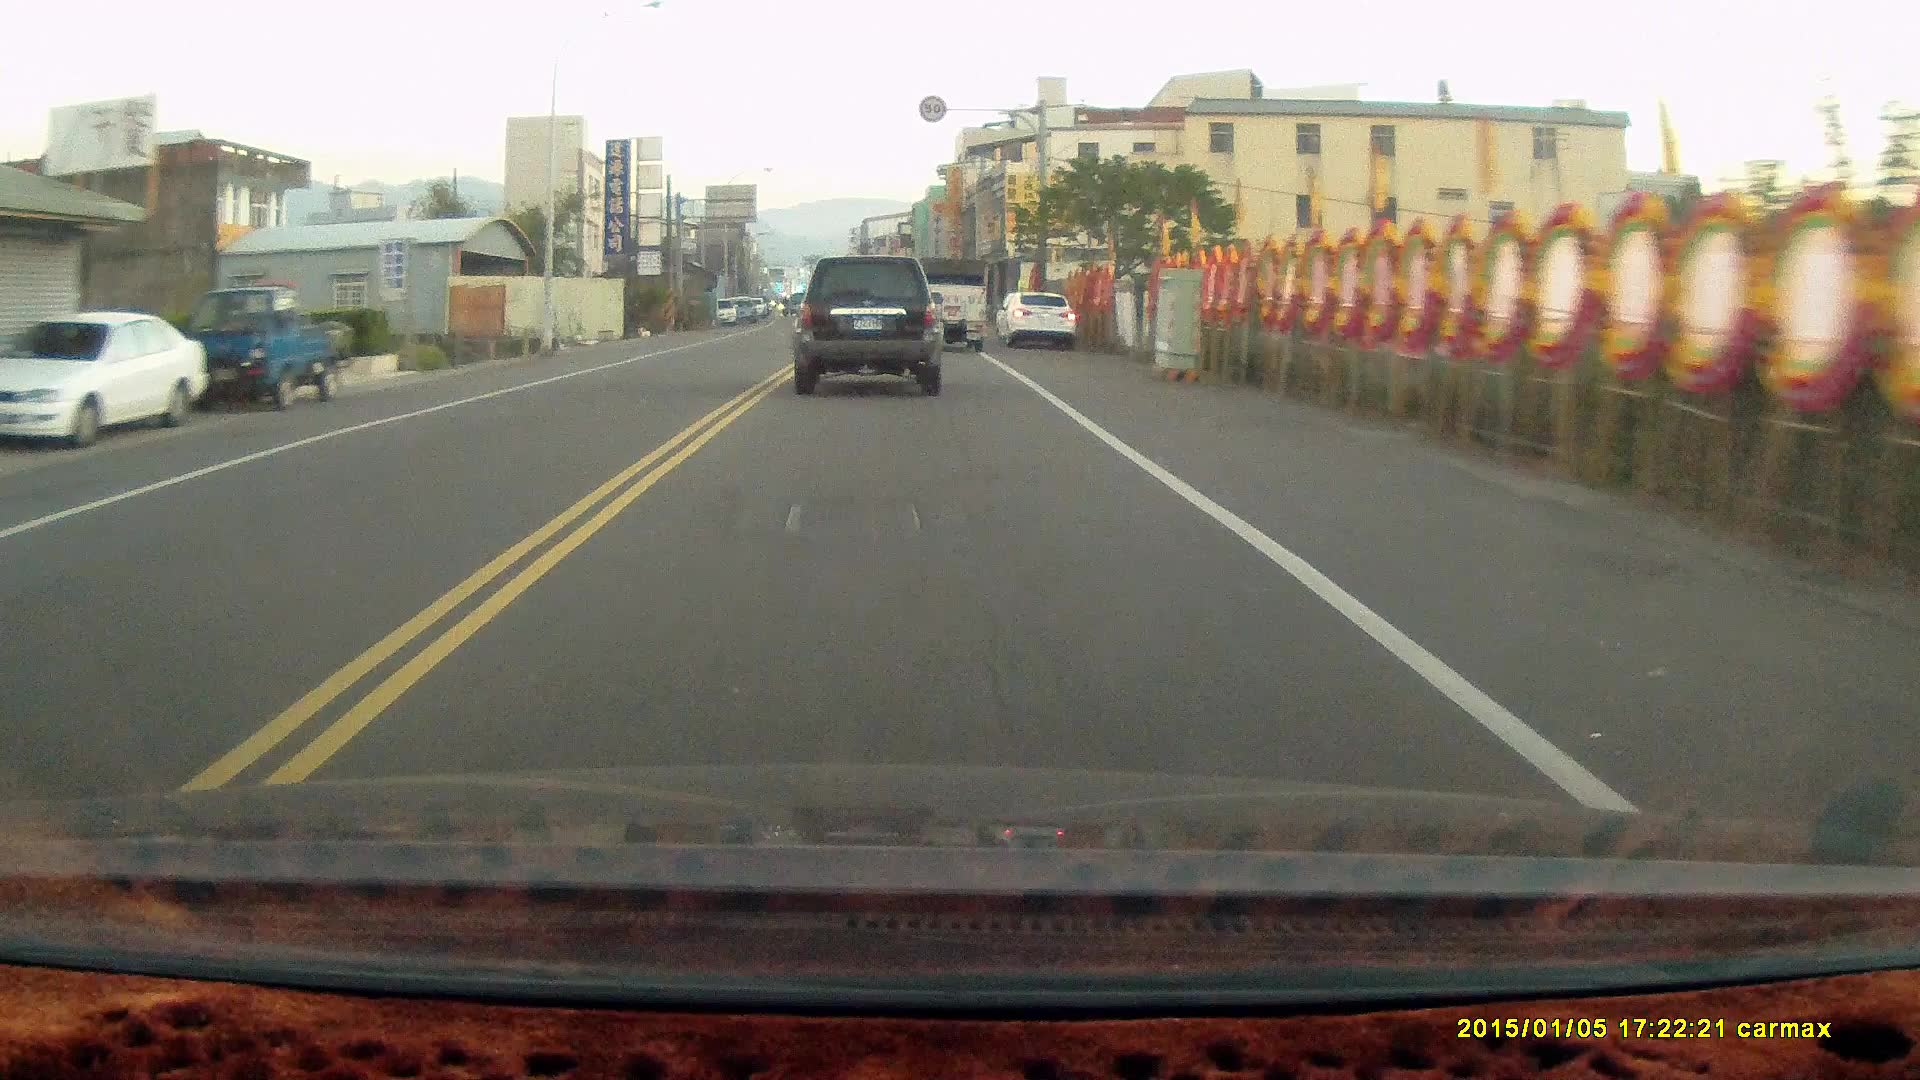vehicle: (1, 309, 211, 446), (171, 284, 353, 413), (794, 256, 945, 398), (913, 253, 992, 349), (1002, 286, 1079, 348)
